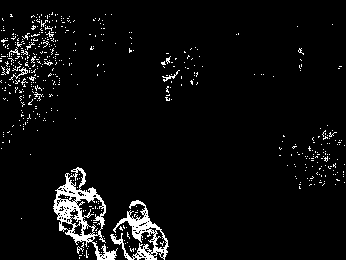person: (53, 165, 107, 260), (108, 193, 171, 260)
